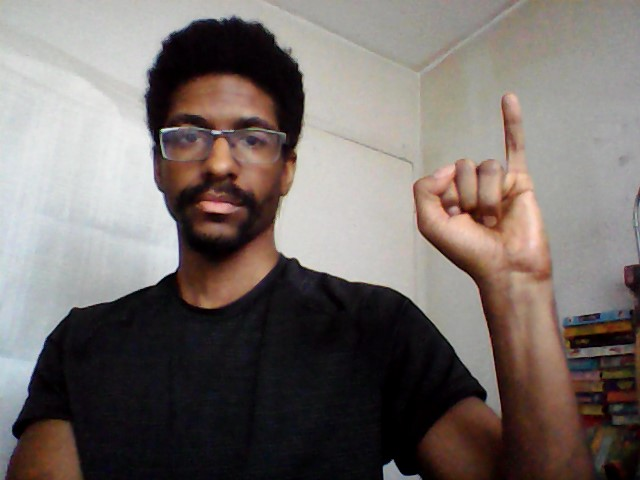i: (408, 86, 569, 286)
